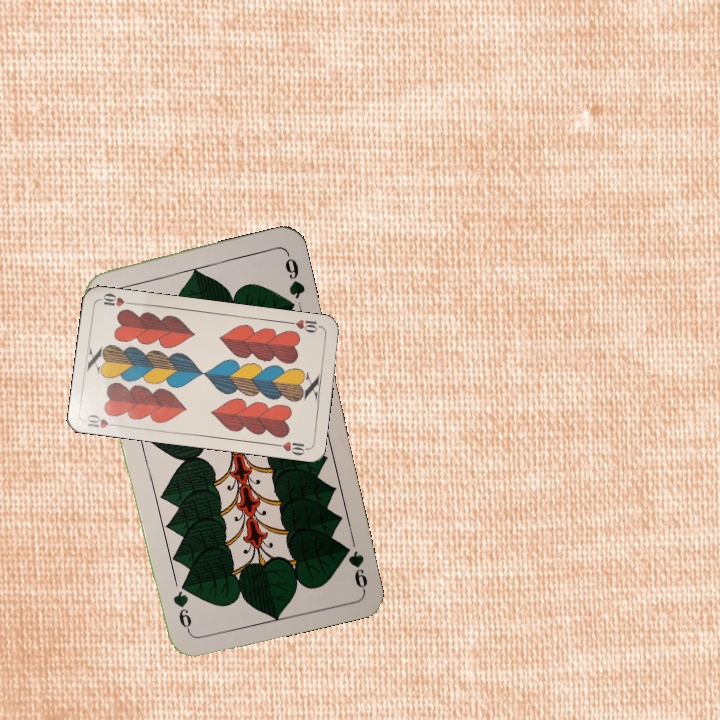G9: (344, 546, 370, 591)
H10: (284, 315, 325, 335), (82, 410, 122, 430)
